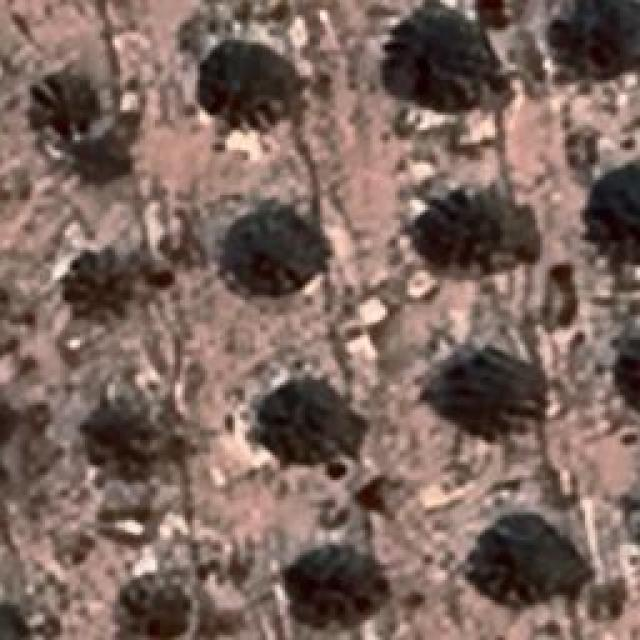PalmTree: (27, 73, 627, 372), (60, 240, 170, 332), (480, 512, 592, 600), (254, 372, 358, 460), (221, 211, 309, 304), (212, 46, 298, 134), (290, 552, 385, 626), (446, 350, 534, 425), (400, 12, 470, 96), (425, 200, 515, 262), (88, 415, 158, 485), (555, 0, 633, 58), (124, 571, 188, 639), (595, 186, 640, 236), (627, 333, 640, 418)
